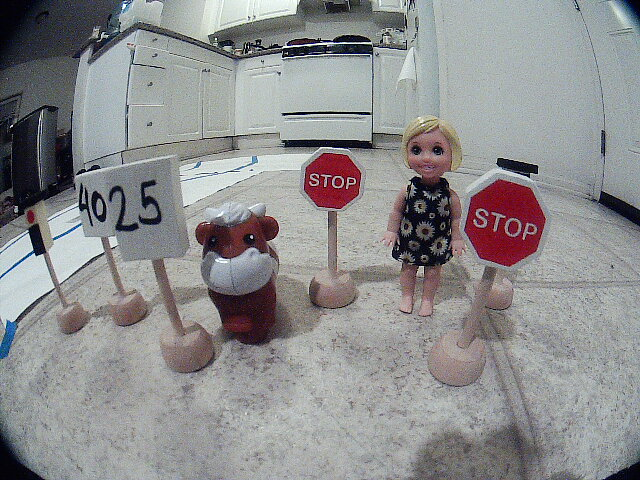Cow: (191, 200, 295, 351)
Person: (384, 113, 465, 327)
Red Traffic Light: (14, 193, 57, 260)
Speed Limit 25: (100, 166, 201, 263)
Speed Limit 40: (65, 161, 110, 250)
Stop Sign: (464, 160, 553, 280), (284, 137, 383, 231)
